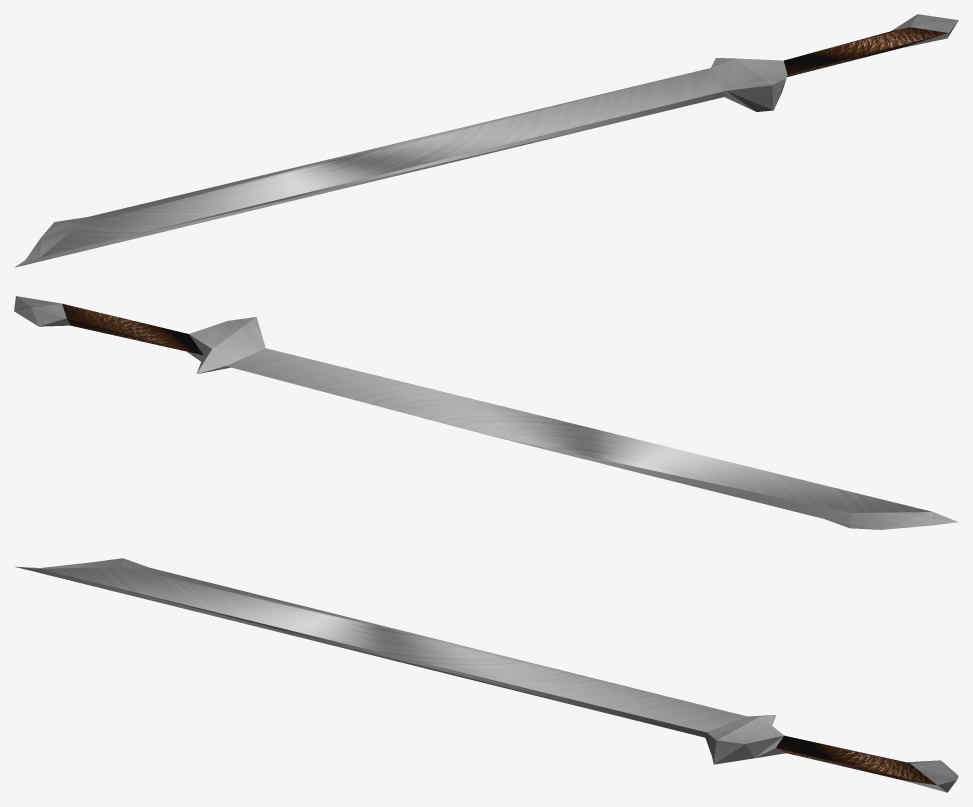
The model's file is sword_old.glb.
The picture shows the model from 3 angles, top to bottom: view 1: azimuth 30°, elevation 25°; view 2: azimuth 150°, elevation 25°; view 3: azimuth 330°, elevation 25°; orthographic projection. The views are drawn at different scales.
Visible parts, largest first — view 1: LP_Sword; view 2: LP_Sword; view 3: LP_Sword.
Boxes of the visible parts, x1=… form: LP_Sword: x1=14, y1=14, x2=958, y2=267; LP_Sword: x1=14, y1=296, x2=958, y2=529; LP_Sword: x1=15, y1=558, x2=958, y2=792.
Bounding box in the file's own units: 0.8643 × 0.0254 × 0.0956.
2 materials, 2 textured.
